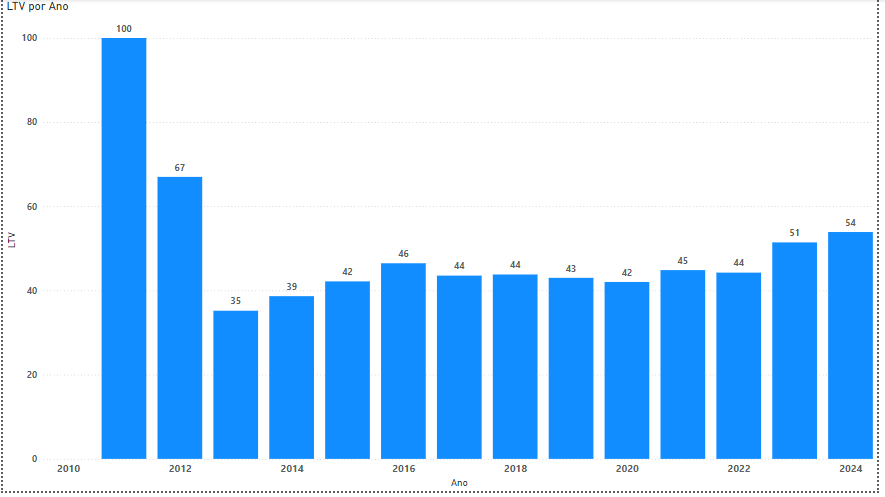

Layout of this report page (visuals, bound fields, positions):
{"tool":"powerbi","page":{"name":"LTV","canvas":[1280,720],"ordinal":2},"visuals":[{"type":"columnChart","fields":{"Y":["Base.LTV"],"Category":["Calendario.Ano"]},"box":[0,0,1280.5,720],"z":0}]}

Visuals, with their boxes in screenshot pixels (x1, y1, x2, y2), scaled from the page's 1280x720 canvas onto the 885x497 screenshot:
columnChart - Base.LTV x Calendario.Ano: [x1=0, y1=0, x2=884, y2=496]
